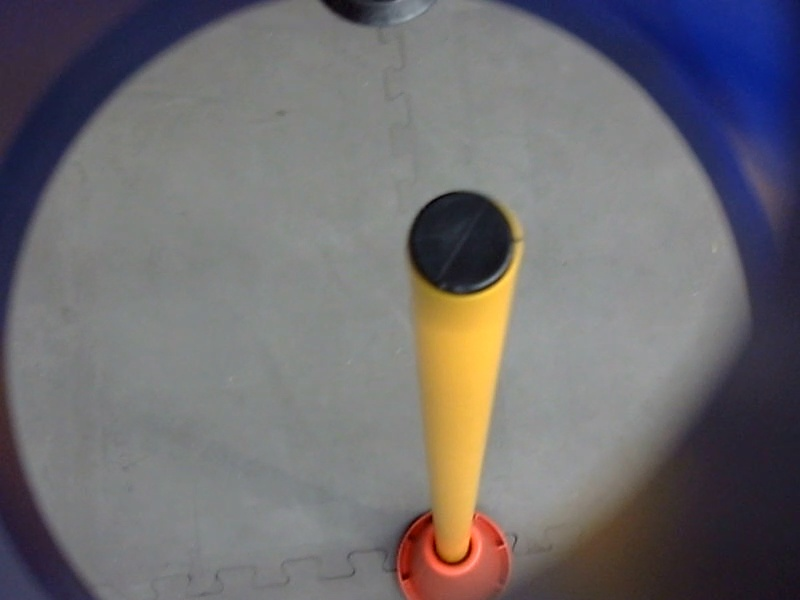tip: (397, 180, 530, 307)
